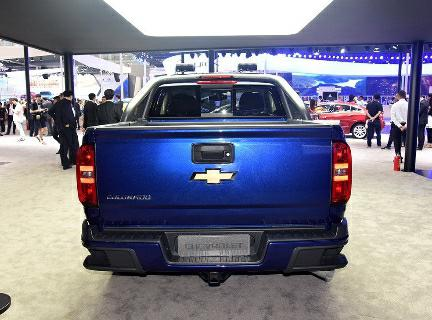雪佛兰-库罗德: (69, 71, 358, 291)
